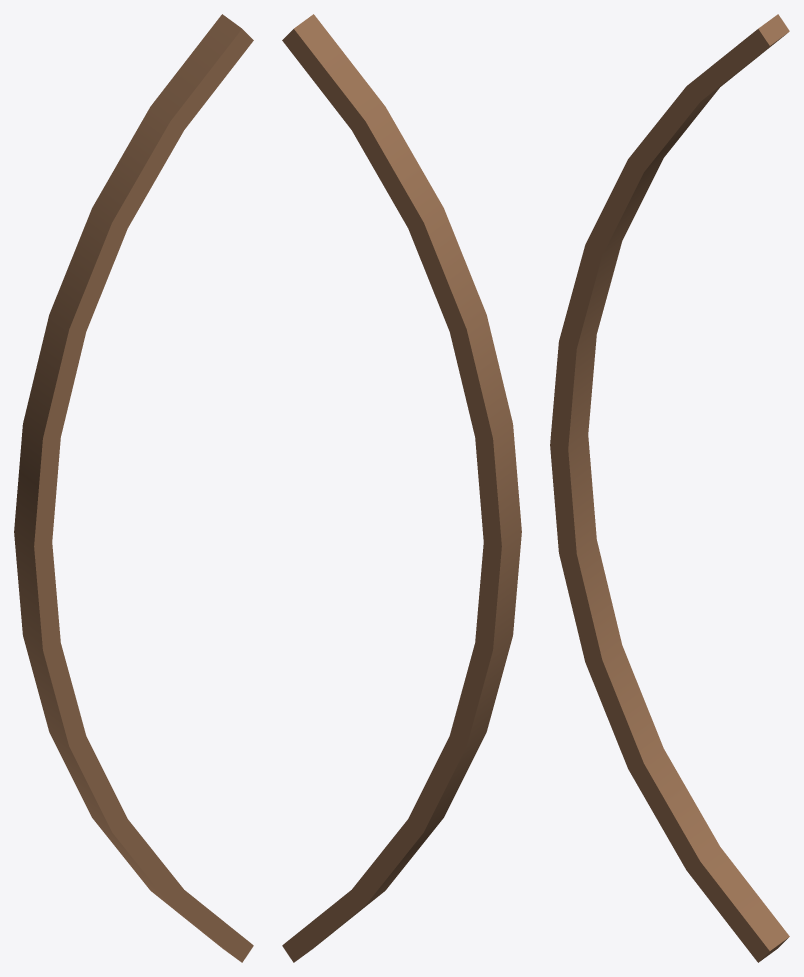
The model's file is Metal_Beam_01_Bend_02.fbx.
The picture shows the model from 3 angles, left to right: view 1: azimuth 30°, elevation 25°; view 2: azimuth 150°, elevation 25°; view 3: azimuth 330°, elevation 25°; orthographic projection.
Parts seen in each view (by area): view 1: Metal_Beam_01_Bend_02; view 2: Metal_Beam_01_Bend_02; view 3: Metal_Beam_01_Bend_02.
Part boxes in pixels (x1,y1,x2,y2): Metal_Beam_01_Bend_02: (14,14,253,962); Metal_Beam_01_Bend_02: (282,14,521,962); Metal_Beam_01_Bend_02: (550,14,789,962).
Bounding box in the file's own units: 106 × 432 × 16.8.
